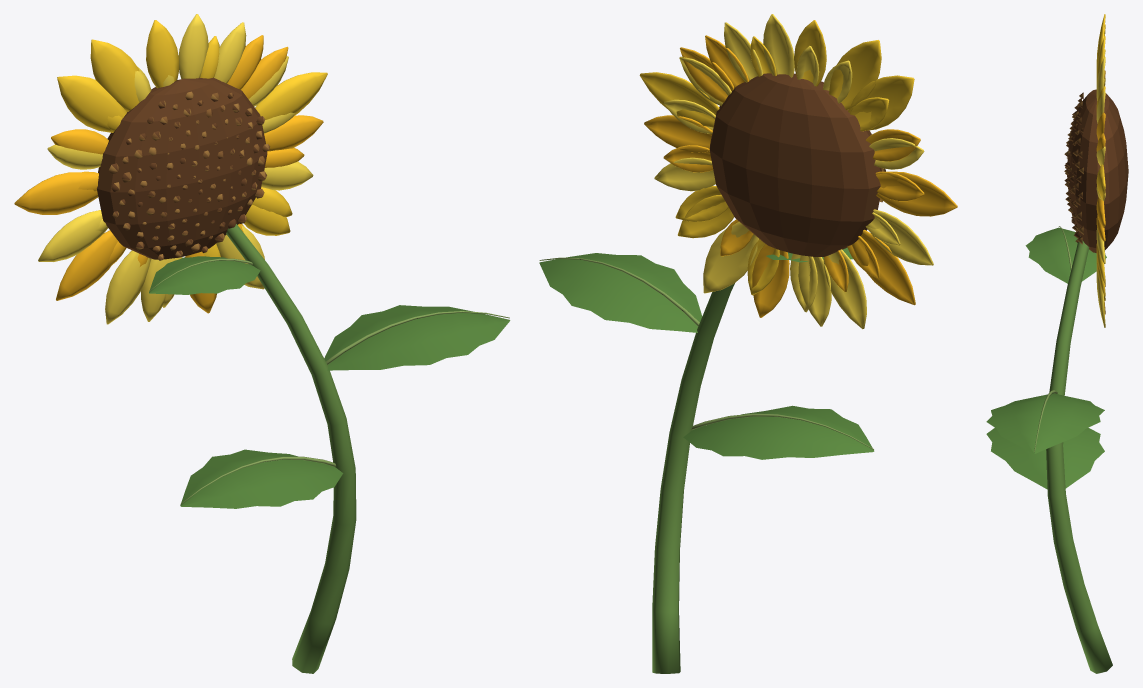
Rendered from sunflower-v2-bloom-1-0.glb.
The picture shows the model from 3 angles, left to right: view 1: azimuth 30°, elevation 25°; view 2: azimuth 150°, elevation 25°; view 3: azimuth 270°, elevation 25°; orthographic projection. The views are drawn at different scales.
Parts seen in each view (by area): view 1: Curved tapered stem; view 2: Curved tapered stem; view 3: Curved tapered stem.
Boxes of the visible parts, left/top/right/bottom form: Curved tapered stem: left=14, top=14, right=510, bottom=673; Curved tapered stem: left=539, top=14, right=957, bottom=673; Curved tapered stem: left=986, top=14, right=1128, bottom=673.
Size of the model in its own units: 0.3256 by 0.4694 by 0.1056.
